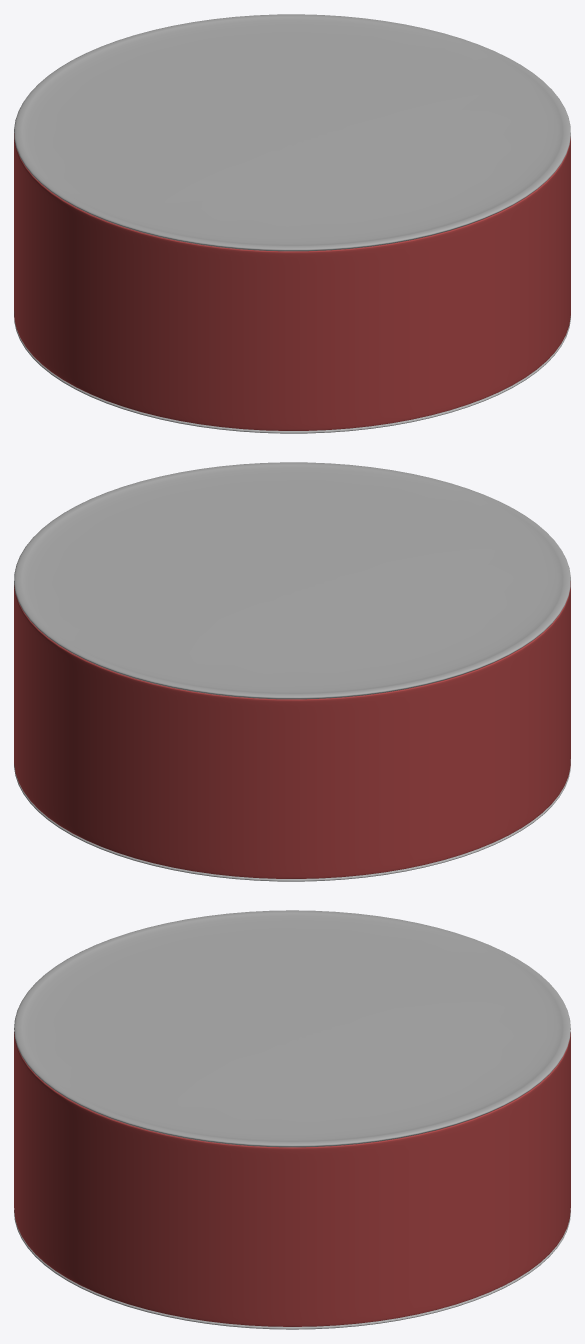
File: tuna.fbx
3 views of the same model, one above another, from view 1: azimuth 30°, elevation 25°; view 2: azimuth 150°, elevation 25°; view 3: azimuth 270°, elevation 25° (orthographic).
Visible parts, largest first — view 1: new_tuna; view 2: new_tuna; view 3: new_tuna.
Boxes of the visible parts, x1,y1,x2,y2 form: new_tuna: [14, 14, 570, 433]; new_tuna: [14, 462, 570, 881]; new_tuna: [14, 910, 570, 1329].
Bounding box in the file's own units: 1.99 × 0.7354 × 1.99.
